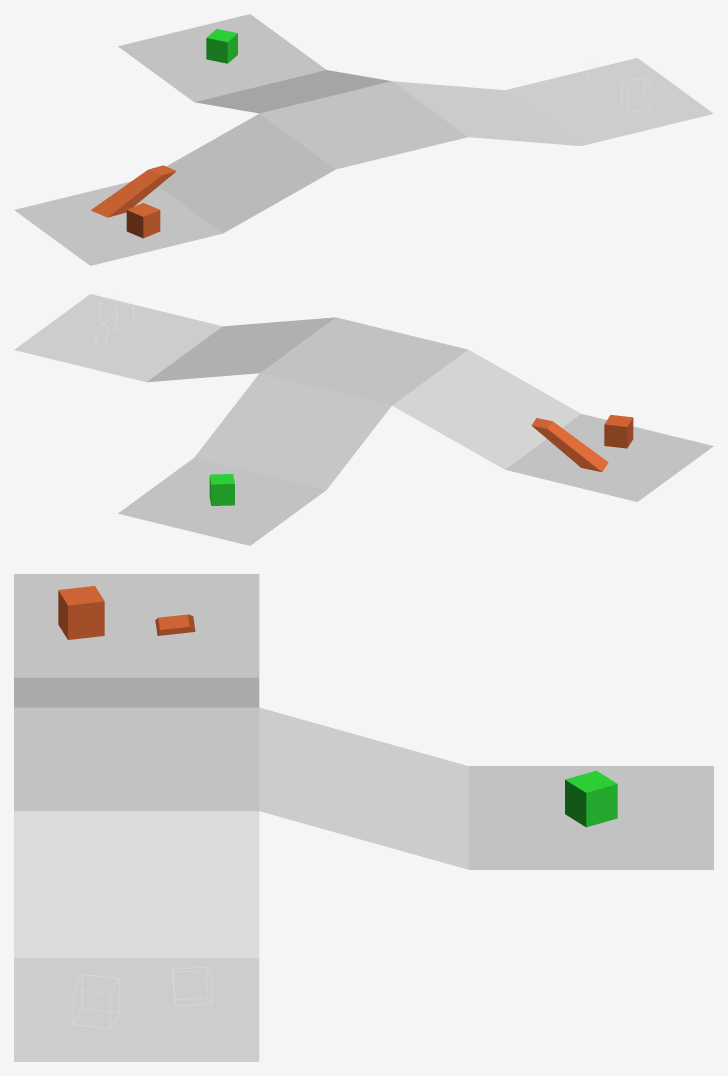
3 views of the same model, one above another, from view 1: azimuth 30°, elevation 25°; view 2: azimuth 150°, elevation 25°; view 3: azimuth 270°, elevation 25° (orthographic). The views are drawn at different scales.
Parts seen in each view (by area): view 1: Plane.005, Plane.001, Plane.003, Plane.004, Cube, Cube.001, Cube.002; view 2: Plane.003, Plane.005, Plane.001, Plane.004, Cube, Cube.001, Cube.002; view 3: Plane.001, Plane.003, Plane.005, Plane.004, Cube.002, Cube.001.
Boxes of the visible parts, x1=… form: Plane.005: x1=14, y1=113, x2=335, y2=265; Plane.001: x1=392, y1=58, x2=713, y2=145; Plane.003: x1=118, y1=14, x2=391, y2=113; Plane.004: x1=260, y1=81, x2=467, y2=169; Cube: x1=90, y1=165, x2=176, y2=217; Cube.001: x1=126, y1=203, x2=160, y2=238; Cube.002: x1=206, y1=29, x2=237, y2=63; Plane.003: x1=118, y1=373, x2=391, y2=545; Plane.005: x1=392, y1=350, x2=713, y2=501; Plane.001: x1=14, y1=294, x2=335, y2=382; Plane.004: x1=260, y1=317, x2=467, y2=405; Cube: x1=531, y1=418, x2=608, y2=472; Cube.001: x1=604, y1=415, x2=633, y2=448; Cube.002: x1=209, y1=474, x2=234, y2=505; Plane.001: x1=14, y1=811, x2=259, y2=1061; Plane.003: x1=259, y1=707, x2=713, y2=869; Plane.005: x1=14, y1=574, x2=259, y2=707; Plane.004: x1=14, y1=707, x2=259, y2=811; Cube.002: x1=565, y1=770, x2=617, y2=827; Cube.001: x1=58, y1=586, x2=104, y2=639.
Bounding box in the file's own units: 60.66 × 3.4 × 36.77.
